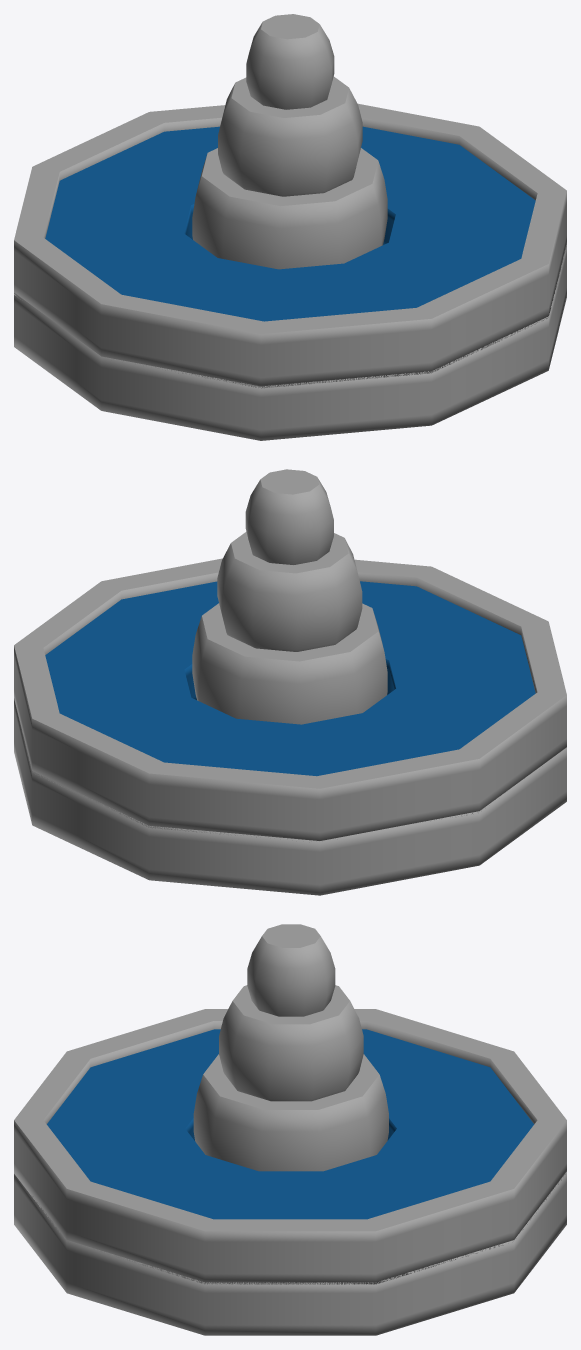
Rendered from brunnenV.dae.
3 views of the same model, one above another, from view 1: azimuth 30°, elevation 25°; view 2: azimuth 150°, elevation 25°; view 3: azimuth 270°, elevation 25° (orthographic). The views are drawn at different scales.
Visible parts, largest first — view 1: Tube005, Wasser, Tube001, Tube002, Tube003, Tube004; view 2: Tube005, Wasser, Tube001, Tube002, Tube003, Tube004; view 3: Tube005, Wasser, Tube001, Tube002, Tube003, Tube004.
Part boxes in pixels (bbox=[...]): Tube005: bbox=[14, 103, 566, 388]; Wasser: bbox=[45, 126, 535, 321]; Tube001: bbox=[14, 245, 566, 440]; Tube002: bbox=[192, 148, 387, 269]; Tube003: bbox=[218, 76, 362, 196]; Tube004: bbox=[246, 14, 334, 109]; Tube005: bbox=[14, 558, 566, 840]; Wasser: bbox=[45, 581, 535, 776]; Tube001: bbox=[14, 698, 566, 895]; Tube002: bbox=[192, 603, 387, 724]; Tube003: bbox=[217, 531, 362, 651]; Tube004: bbox=[245, 469, 333, 564]; Tube005: bbox=[14, 1009, 566, 1284]; Wasser: bbox=[47, 1029, 533, 1219]; Tube001: bbox=[14, 1172, 566, 1335]; Tube002: bbox=[193, 1054, 388, 1171]; Tube003: bbox=[219, 985, 363, 1101]; Tube004: bbox=[247, 924, 335, 1016].
Bounding box in the file's own units: 2.27 × 2.39 × 1.38.
